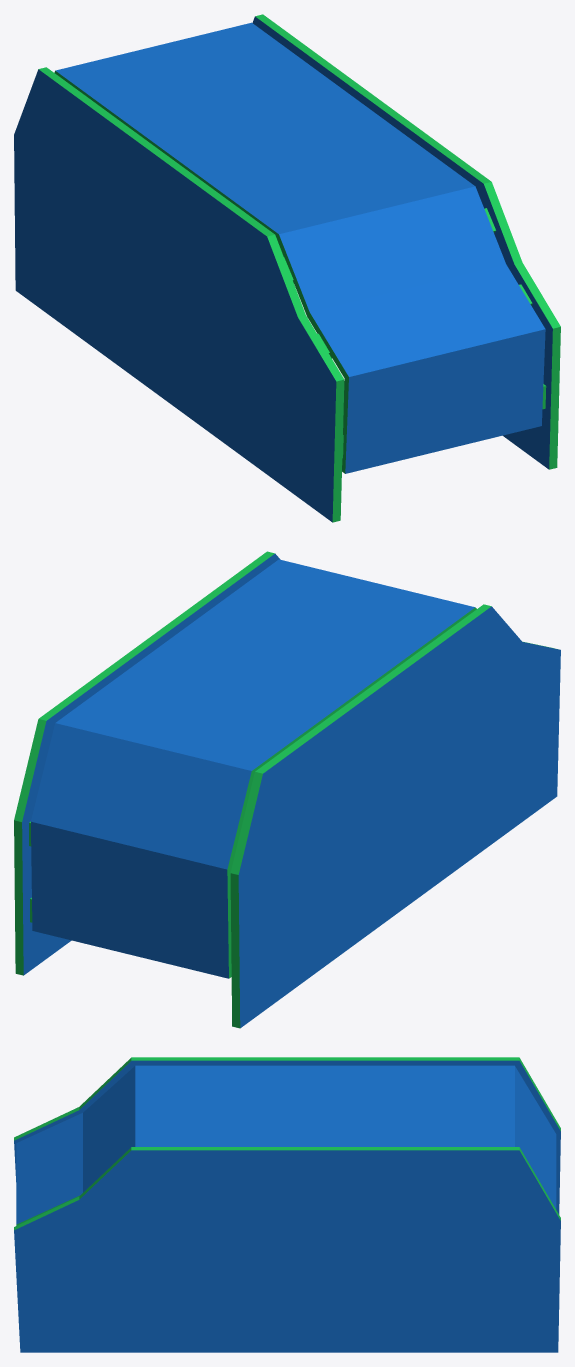
File: SM_plywood_fence_4.fbx
3 renders of one model, top to bottom at view 1: azimuth 30°, elevation 25°; view 2: azimuth 150°, elevation 25°; view 3: azimuth 270°, elevation 25°, orthographic. The views are drawn at different scales.
Parts seen in each view (by area): view 1: Cube_17; view 2: Cube_17; view 3: Cube_17.
Part boxes in pixels (bbox=[...]): Cube_17: bbox=[14, 14, 560, 522]; Cube_17: bbox=[14, 551, 560, 1028]; Cube_17: bbox=[14, 1057, 560, 1352].
Size of the model in its own units: 194 by 197 by 483.
